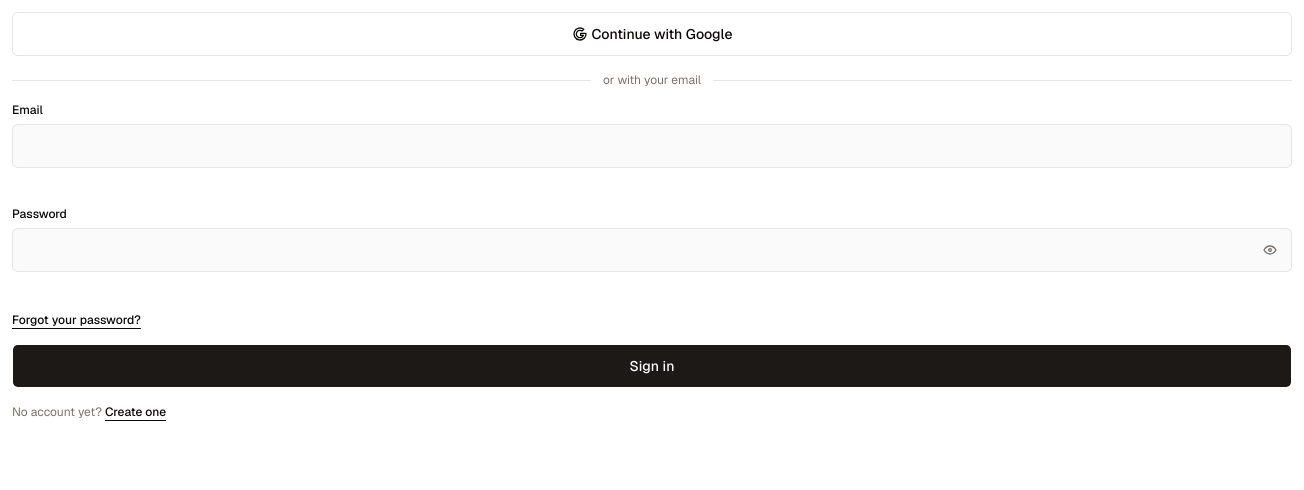
Test: SignInForm › tells a Google-only account to sign in with Google
Step 1. Type "Eater@Example.test" into the field labelled "Email" → (652, 146), box x1=12 y1=124 x2=1292 y2=168
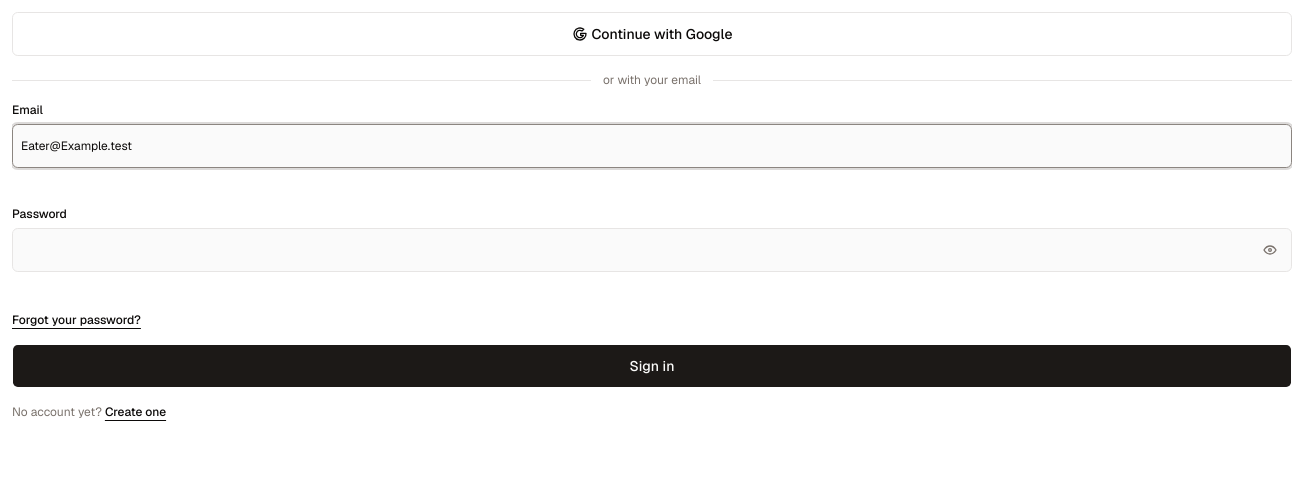
Step 2. Type "lentils-and-rice-forever" into the password field labelled "Password" → (652, 250), box x1=12 y1=228 x2=1292 y2=272
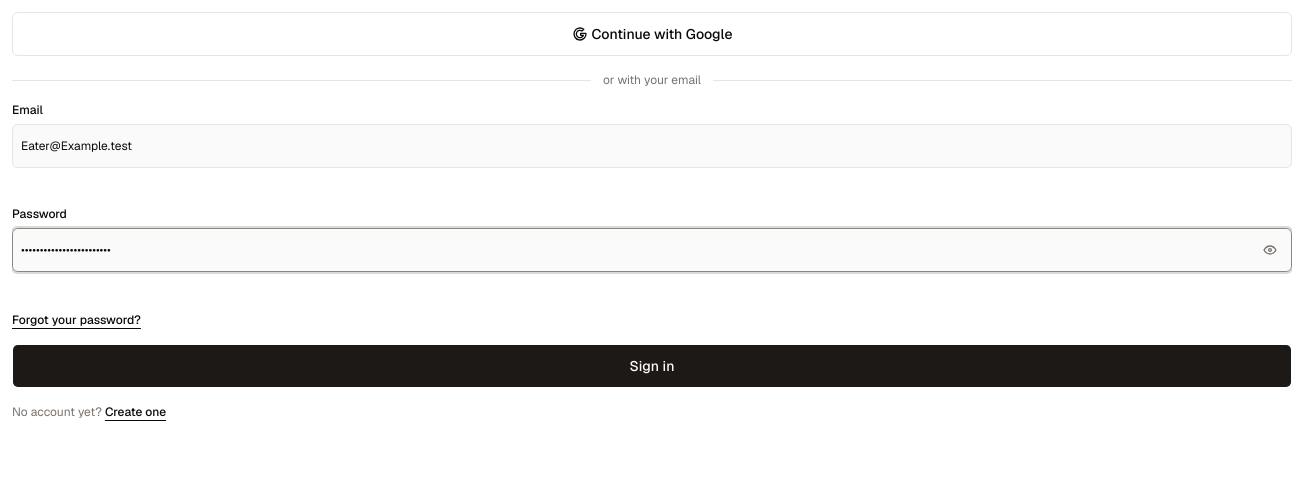
Step 3. Click the button "Sign in" → click(652, 366), box x1=12 y1=344 x2=1292 y2=388
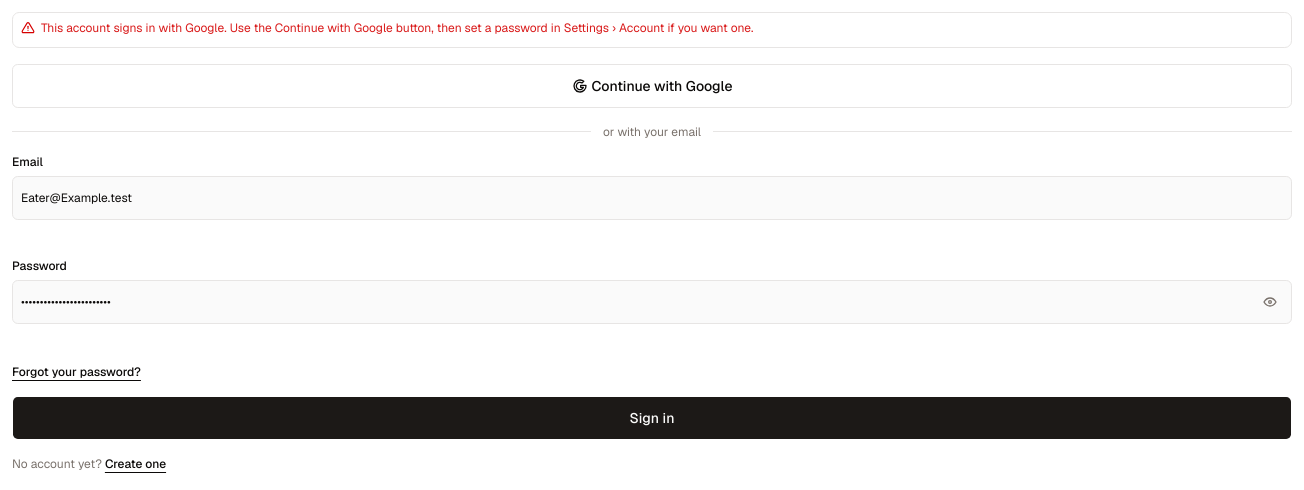
Expected: the button "Continue with Google" is shown, x1=12 y1=64 x2=1292 y2=108
Now the message shows "This account signs in with Google.", box x1=41 y1=20 x2=754 y2=36
Now the message shows "set a password in Settings › Account", box x1=41 y1=20 x2=754 y2=36
